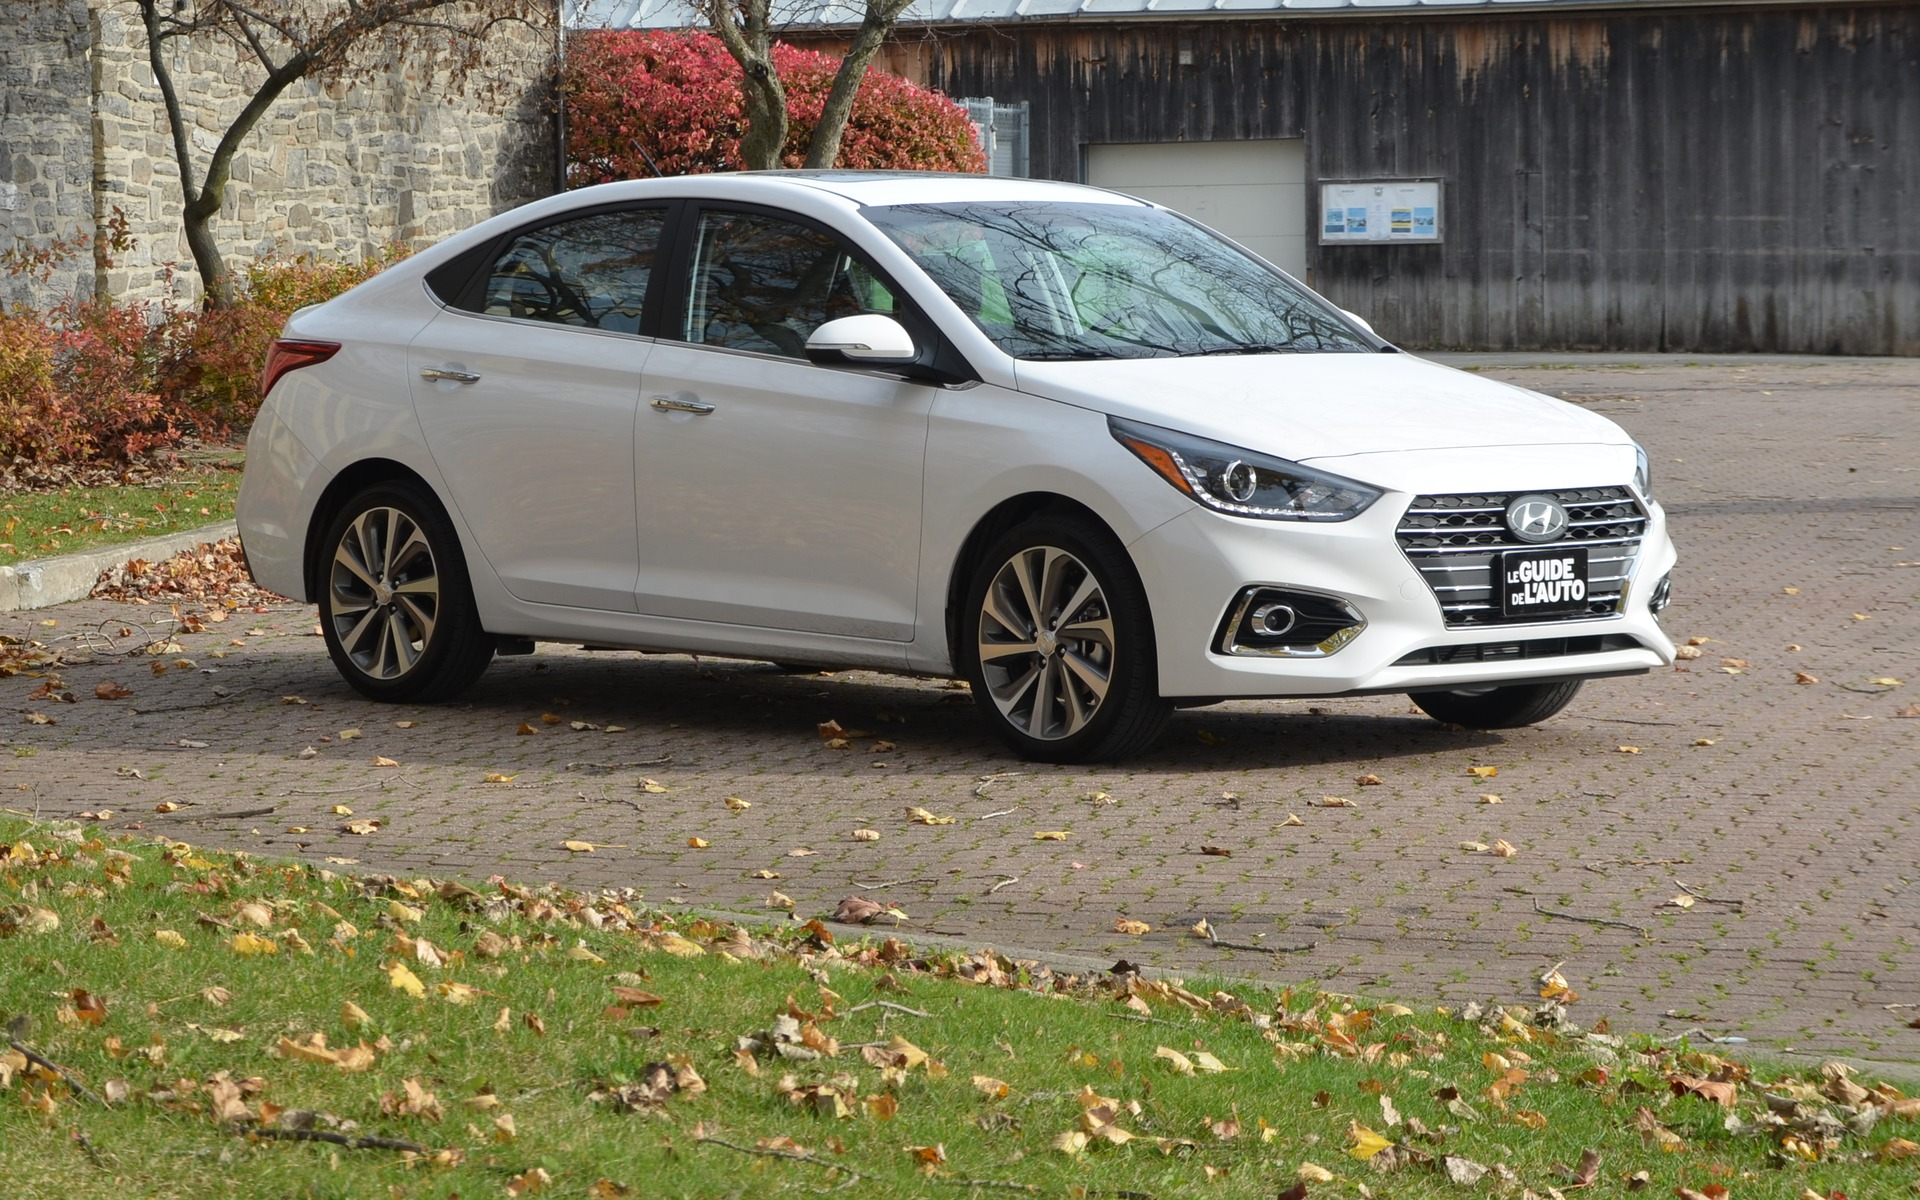accent: (218, 126, 1715, 789)
